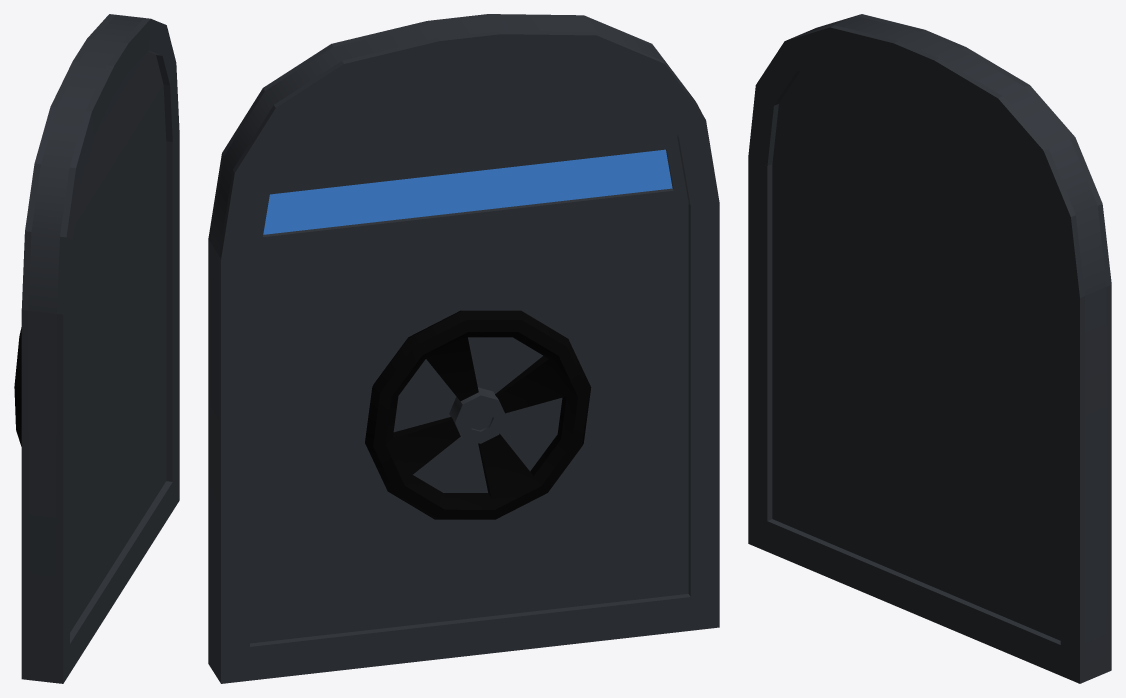
File: COLDoor.FBX
3 views of the same model, side by side, from view 1: azimuth 30°, elevation 25°; view 2: azimuth 150°, elevation 25°; view 3: azimuth 270°, elevation 25° (orthographic). The views are drawn at different scales.
Visible parts, largest first — view 1: Box001; view 2: Box001; view 3: Box001.
Boxes of the visible parts, box(x1,y1,x2,y2) form: Box001: box(14, 14, 179, 683); Box001: box(208, 14, 719, 683); Box001: box(748, 14, 1111, 683).
Size of the model in its own units: 281 by 479 by 281.
